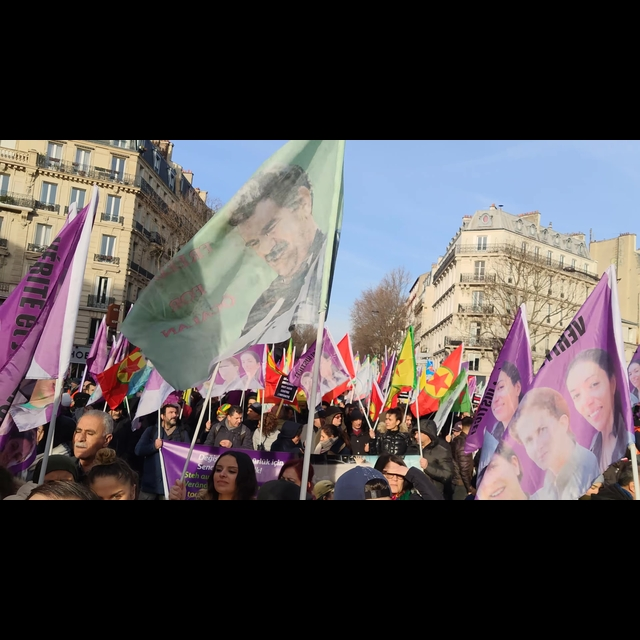PKK: (105, 353, 143, 374), (426, 369, 453, 393)
